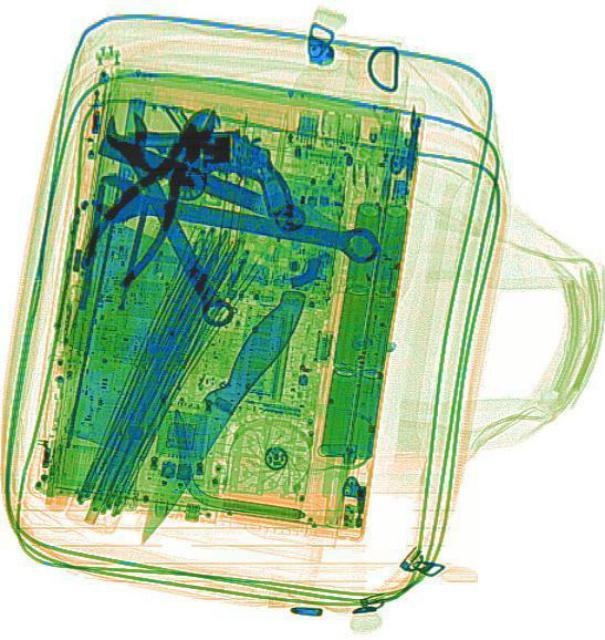Gun: (126, 128, 303, 230)
Knife: (120, 279, 313, 551), (96, 134, 347, 240)
Pliers: (69, 90, 239, 292)
Wrench: (98, 103, 244, 335), (90, 172, 383, 264)
